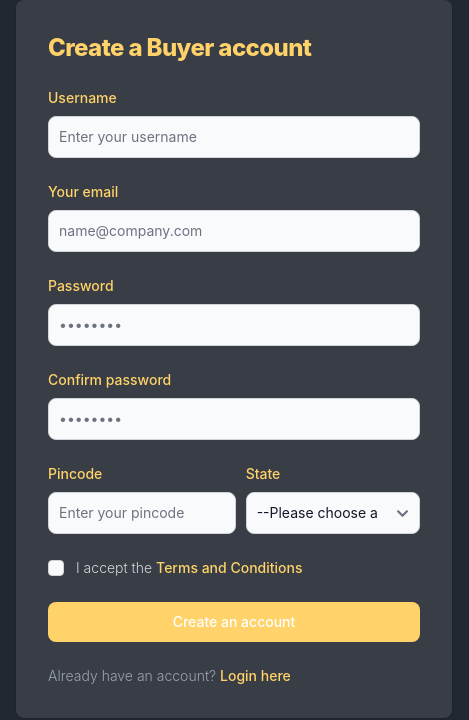
Test case: SignupBuyer Component › shows validation error for invalid email
The width and height of the screenshot is (469, 720).
Type "invalidemail" into the field labelled "Your email" at (234, 231), box [48,210,420,252]
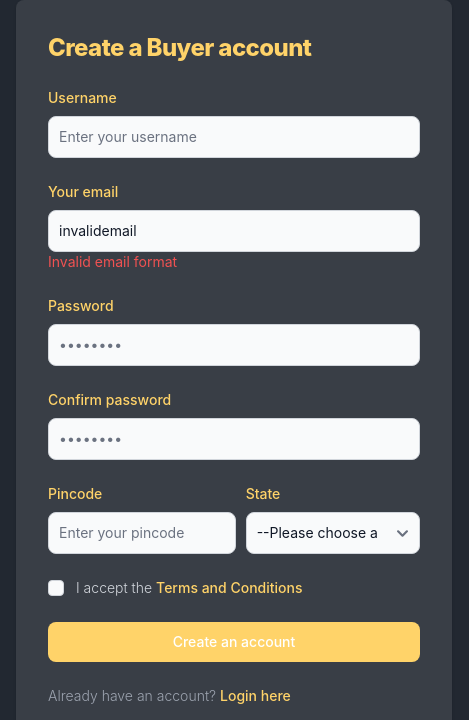
Expected: the text "Invalid email format" is shown, [48,253,177,270]
